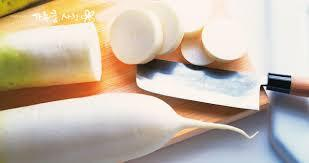radish: (0, 24, 89, 42), (0, 6, 50, 23)
